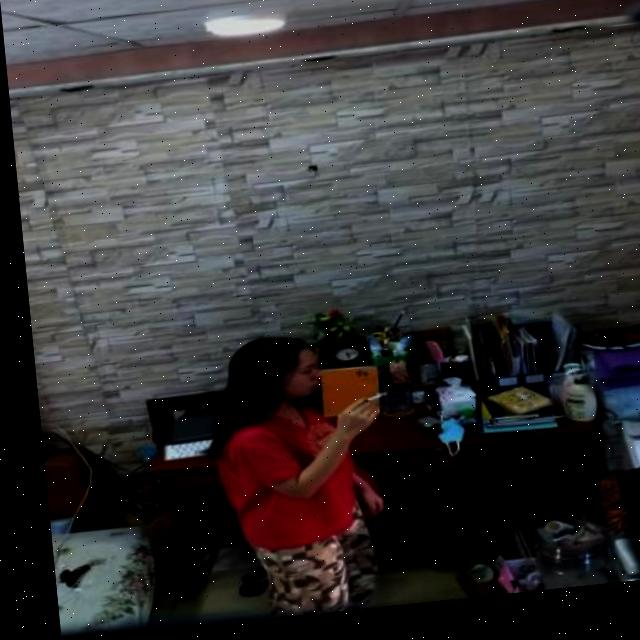cigarette: (355, 397, 380, 410)
